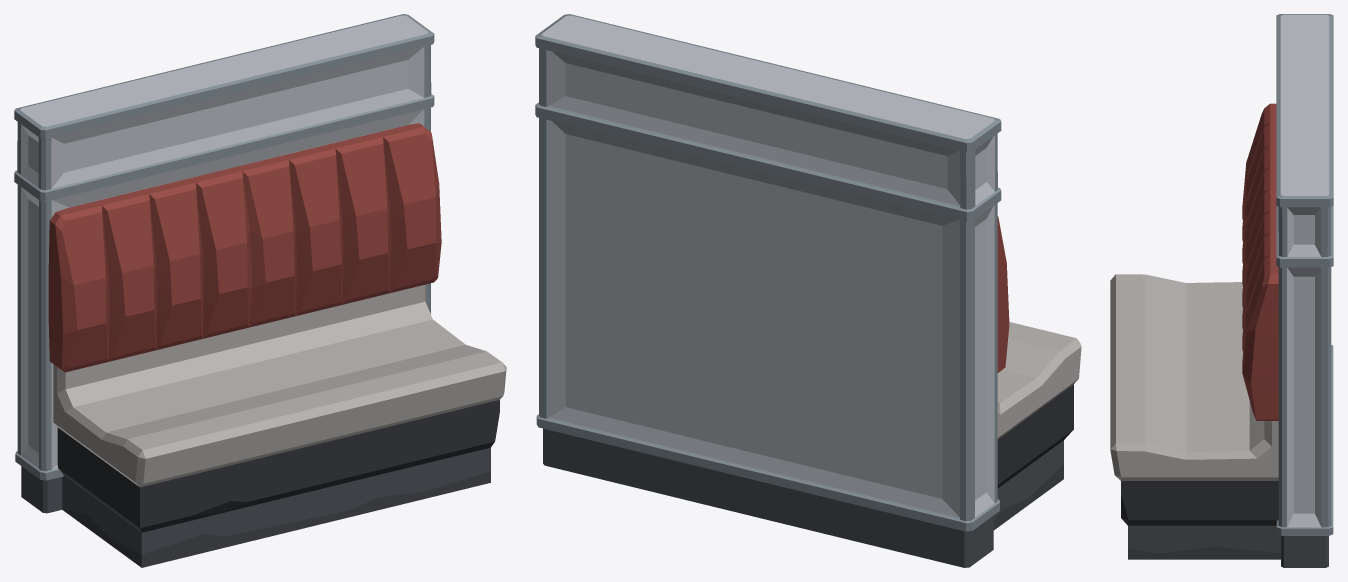
File: SM_Prop_Cafe_Booth_Wall_Seat_01.obj
3 views of the same model, side by side, from view 1: azimuth 30°, elevation 25°; view 2: azimuth 150°, elevation 25°; view 3: azimuth 270°, elevation 25° (orthographic). The views are drawn at different scales.
Visible parts, largest first — view 1: SM_Prop_Cafe_Booth_Wall_Seat_01_0; view 2: SM_Prop_Cafe_Booth_Wall_Seat_01_0; view 3: SM_Prop_Cafe_Booth_Wall_Seat_01_0.
Part boxes in pixels (left/top/right/bottom): SM_Prop_Cafe_Booth_Wall_Seat_01_0: left=14, top=14, right=506, bottom=567; SM_Prop_Cafe_Booth_Wall_Seat_01_0: left=535, top=14, right=1081, bottom=567; SM_Prop_Cafe_Booth_Wall_Seat_01_0: left=1110, top=14, right=1333, bottom=567.
Bounding box in the file's own units: 2.03 × 1.9 × 1.04.
1 material, 1 textured.
